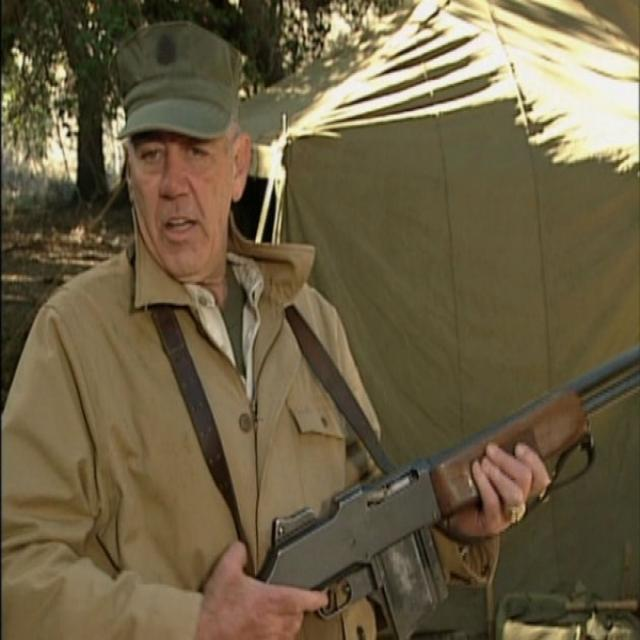rifle: (249, 346, 640, 639)
